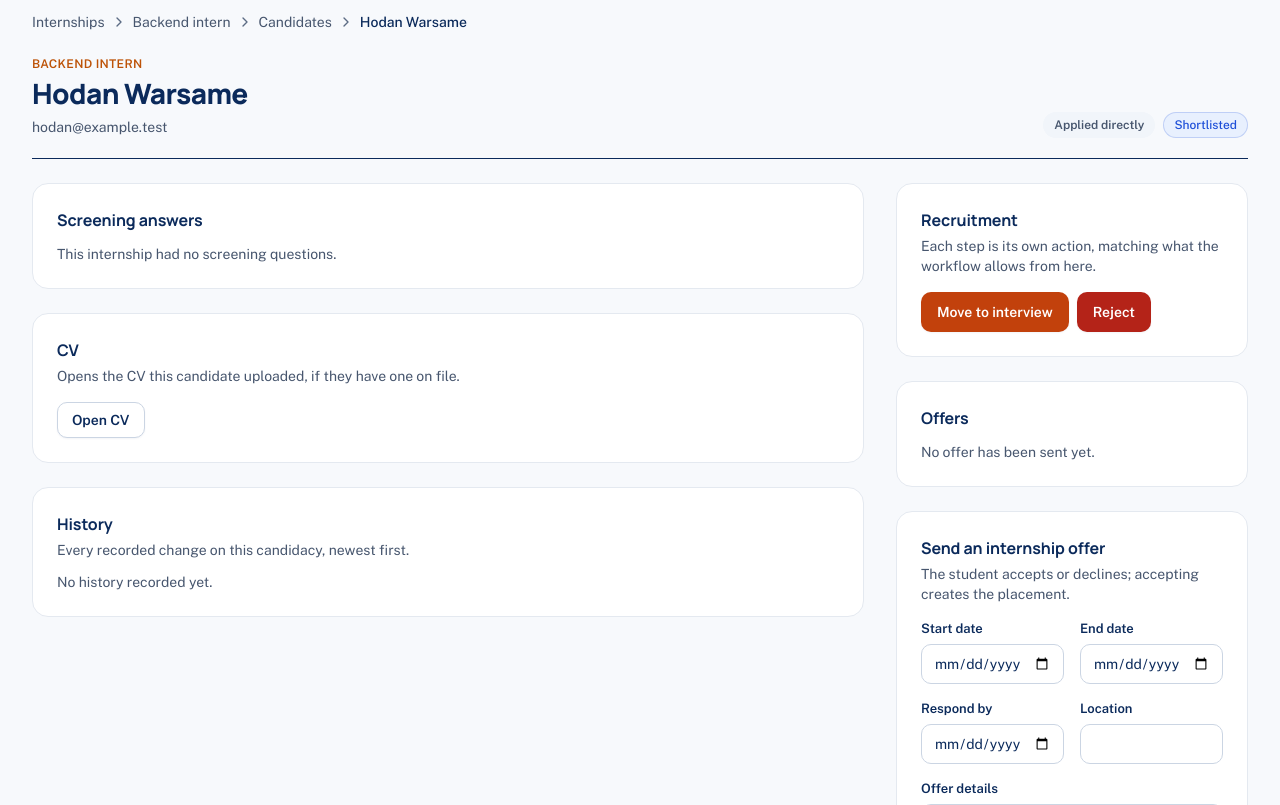
Test: candidate CV › says the candidate has no CV rather than failing silently
Click the button "Open CV". click: (101,420)
box: [57, 402, 144, 438]
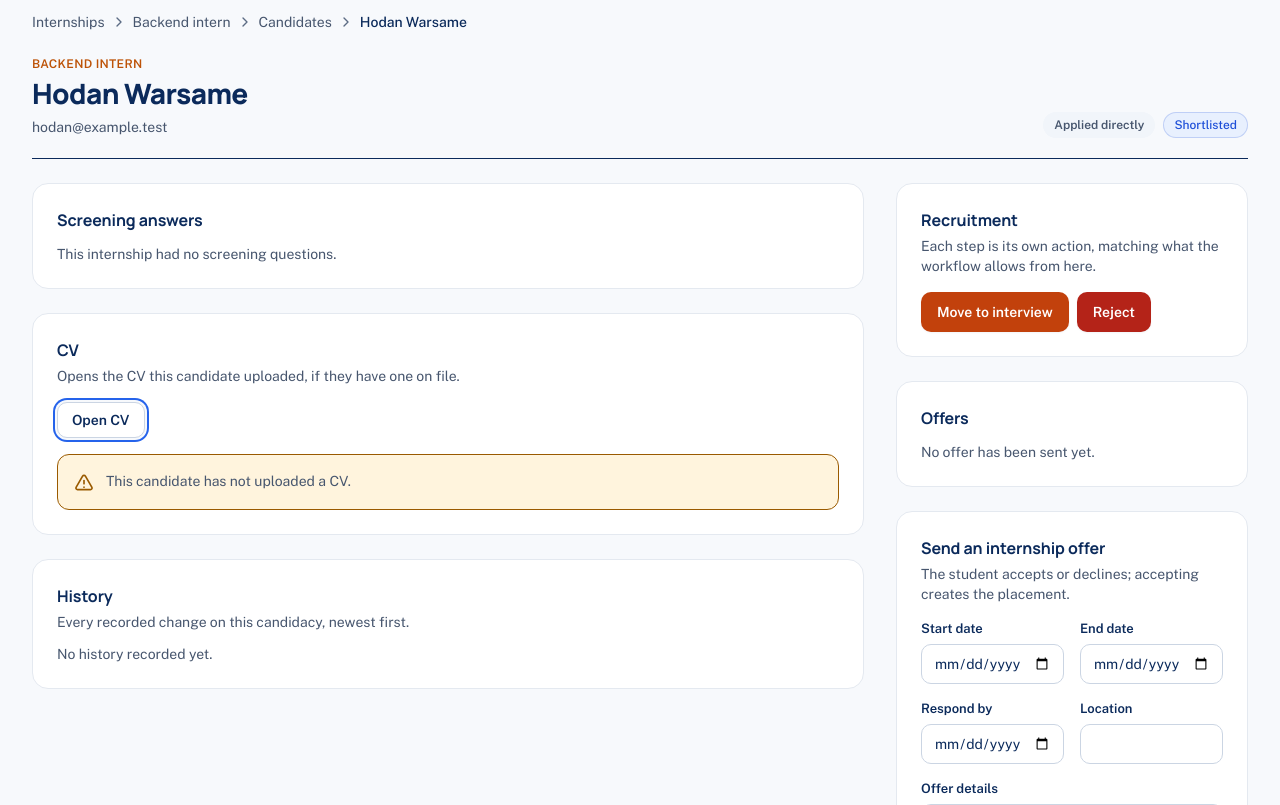
Expected: the text "This candidate has not uploaded a CV." is shown, [106, 473, 351, 489]
